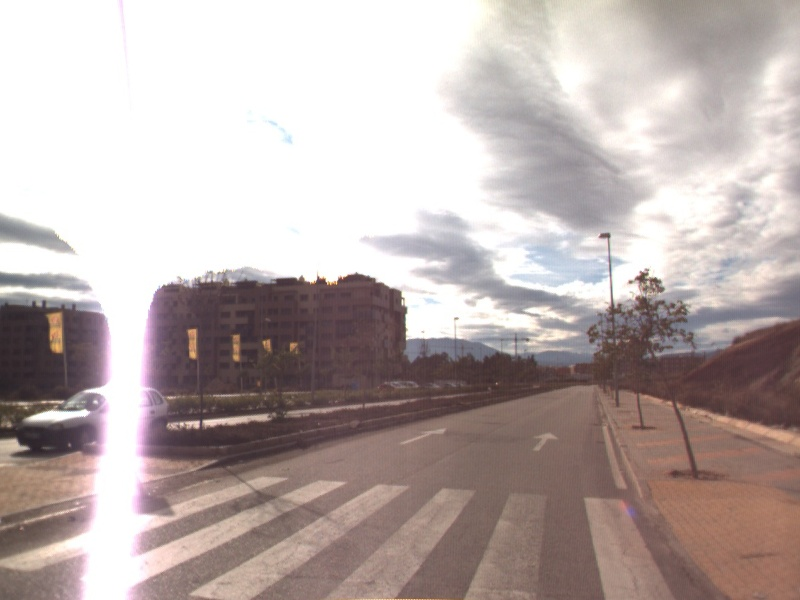STRAIGHT: (398, 426, 449, 446), (530, 430, 561, 453)
